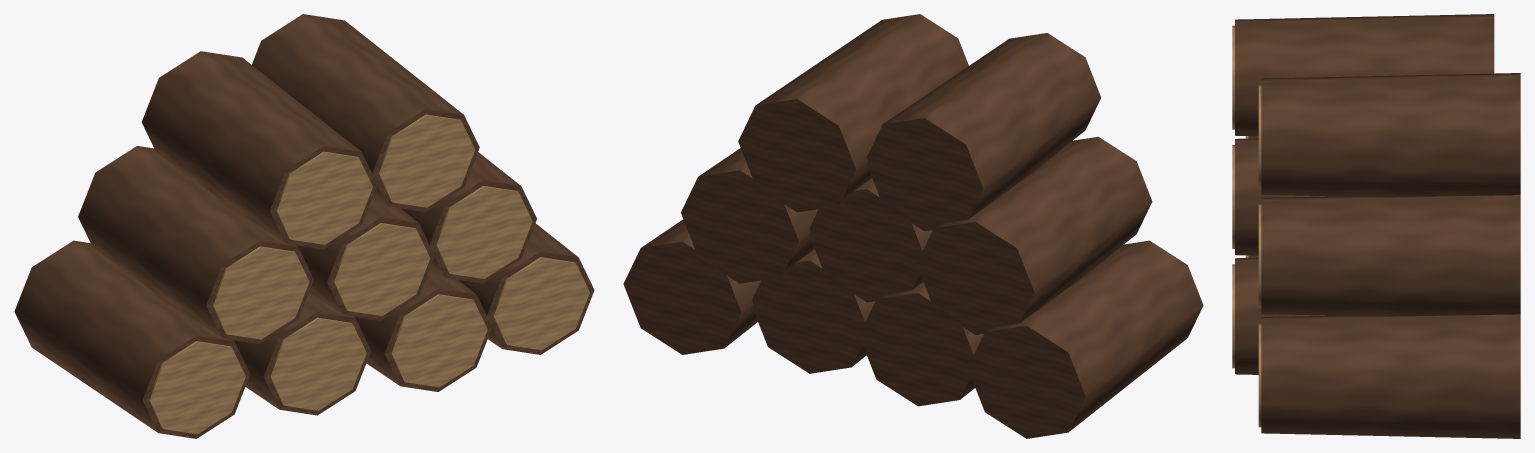
Rendered from firewood.glb.
3 views of the same model, side by side, from view 1: azimuth 30°, elevation 25°; view 2: azimuth 150°, elevation 25°; view 3: azimuth 270°, elevation 25° (orthographic). The views are drawn at different scales.
Parts seen in each view (by area): view 1: firewood; view 2: firewood; view 3: firewood.
Boxes of the visible parts, box(x1,y1,x2,y2) form: firewood: box(14, 14, 594, 438); firewood: box(623, 14, 1203, 438); firewood: box(1232, 14, 1520, 438).
Size of the model in its own units: 1.28 by 0.75 by 0.6546.
Materials: 1 (1 with a texture image).
